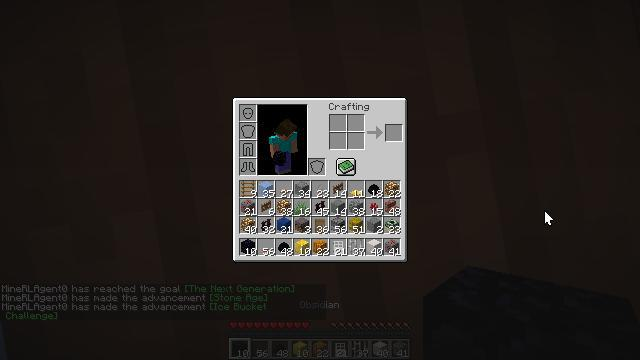cursor: (544, 210, 554, 226)
